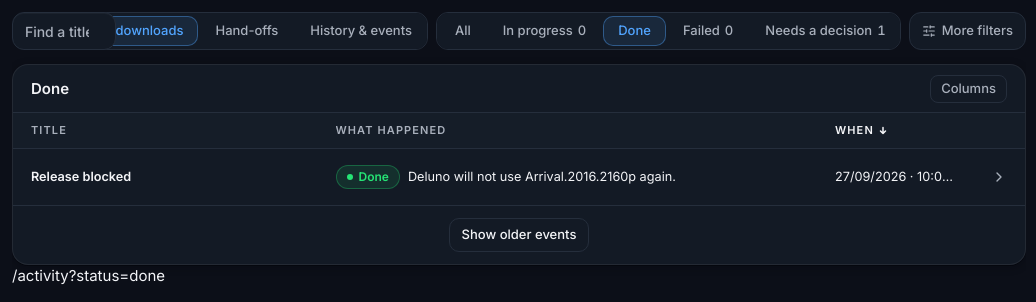
it: Activity history keeps its filters in the address (#1100) › shows older events a page at a time
The image size is (1036, 302).
Check: the text "Deluno will not use Arrival.2016.2160p again." is shown, box top-left (408, 169), bottom-right (676, 185)
Check: the text "Imported Arrival (2016)." is not shown
Click the button "Show older events" at coordinates (519, 235), box top-left (449, 218), bottom-right (589, 252)
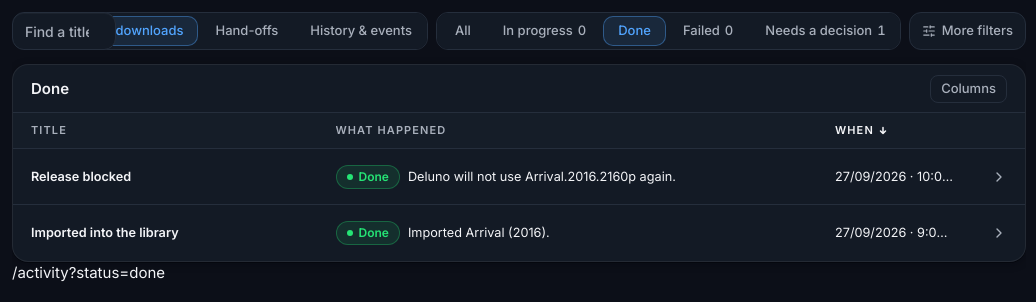
Check: the text "Imported Arrival (2016)." is shown, box top-left (408, 225), bottom-right (550, 241)
Check: the button "Show older events" is gone
